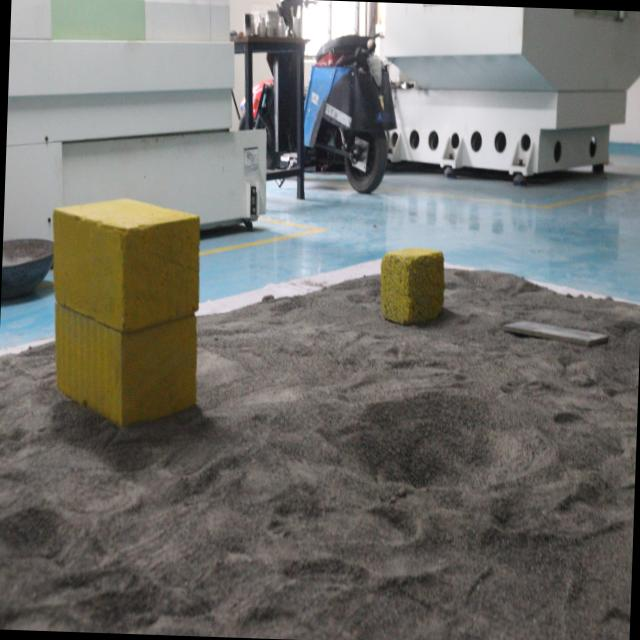box: (44, 194, 207, 432), (379, 236, 451, 330)
crater: (317, 367, 568, 508)
